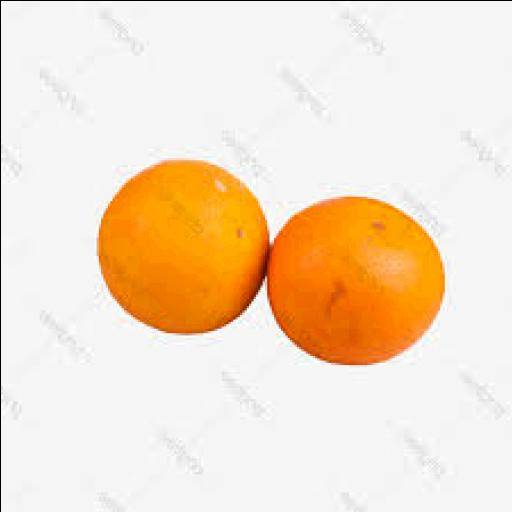orange: (267, 197, 443, 365), (98, 161, 268, 333)
